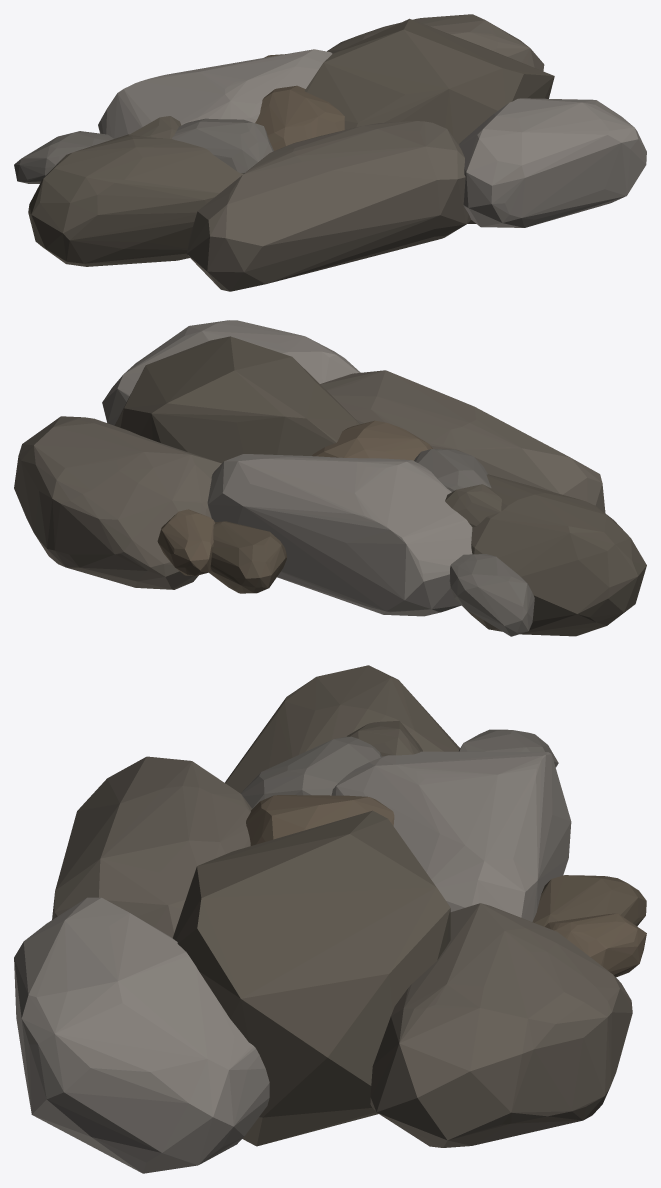
Rendered from Rocks 1.glb.
3 views of the same model, one above another, from view 1: azimuth 30°, elevation 25°; view 2: azimuth 150°, elevation 25°; view 3: azimuth 270°, elevation 25° (orthographic). The views are drawn at different scales.
Parts seen in each view (by area): view 1: brush_MatteHull_g0_b0; view 2: brush_MatteHull_g0_b0; view 3: brush_MatteHull_g0_b0.
Boxes of the visible parts, x1,y1,x2,y2 form: brush_MatteHull_g0_b0: (14,14,646,291); brush_MatteHull_g0_b0: (14,320,646,636); brush_MatteHull_g0_b0: (14,665,646,1173).
Size of the model in its own units: 0.8223 by 0.2544 by 0.5395.
